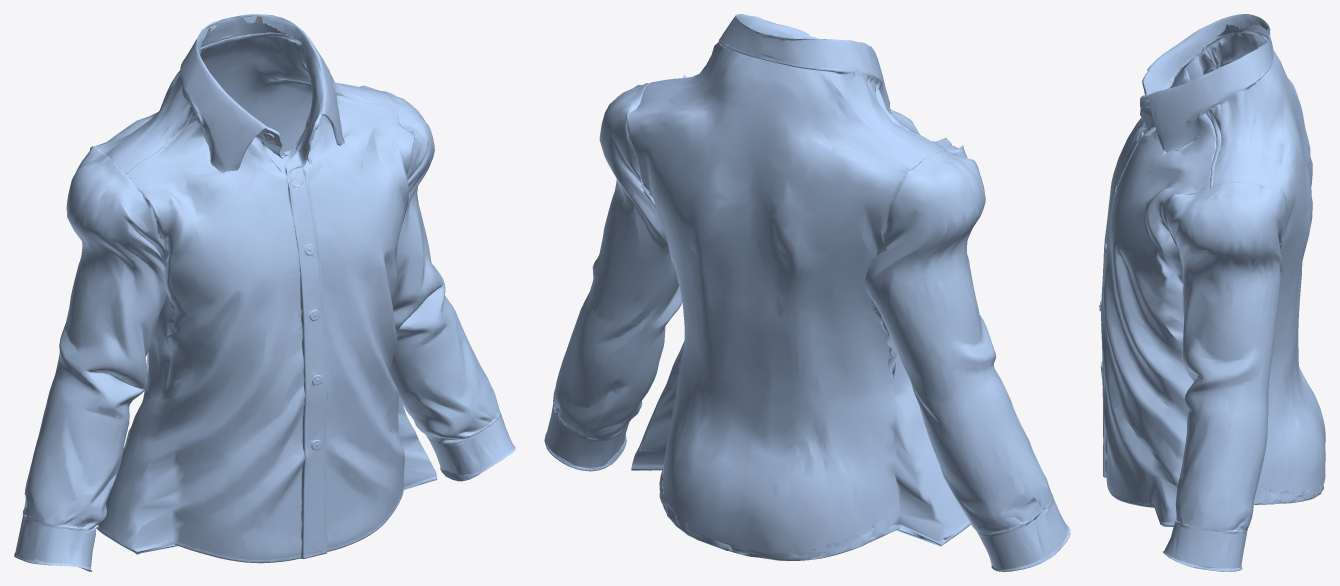
Rendered from top_dress.glb.
3 views of the same model, side by side, from view 1: azimuth 30°, elevation 25°; view 2: azimuth 150°, elevation 25°; view 3: azimuth 270°, elevation 25° (orthographic). The views are drawn at different scales.
Visible parts, largest first — view 1: dress; view 2: dress; view 3: dress.
Part boxes in pixels (<box>): dress: <box>14,14,515,571</box>; dress: <box>544,14,1070,571</box>; dress: <box>1099,14,1325,571</box>.
Bounding box in the file's own units: 0.685 × 0.6476 × 0.2969.
1 material, 1 textured.
